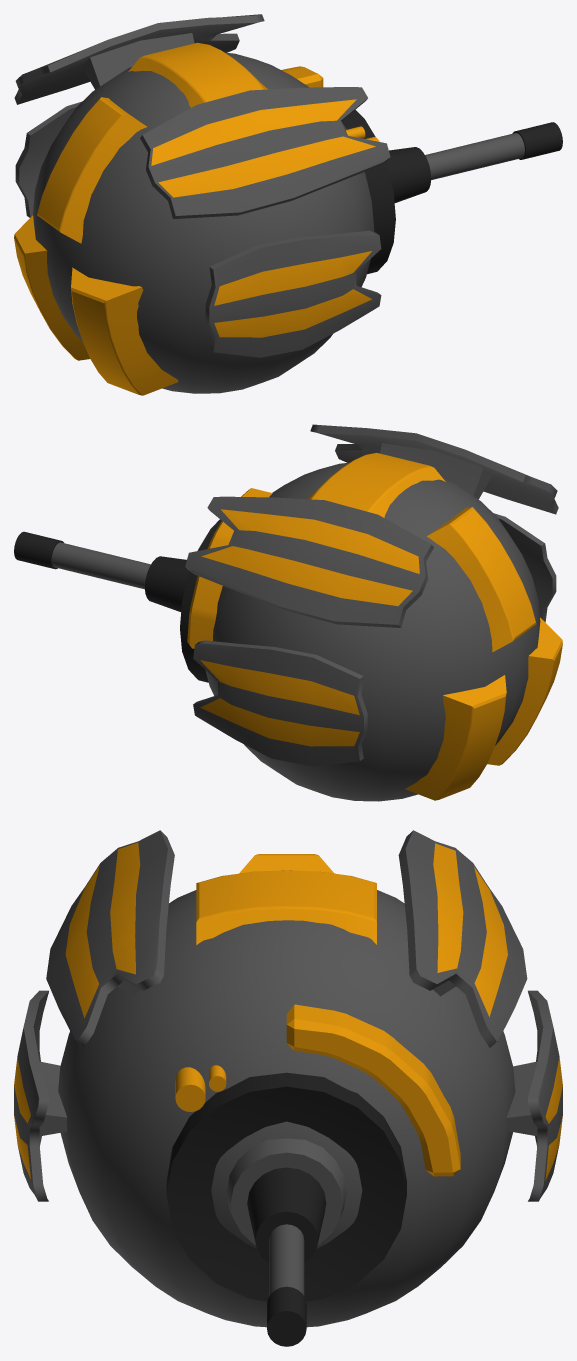
The model's file is drone02.fbx.
3 views of the same model, one above another, from view 1: azimuth 30°, elevation 25°; view 2: azimuth 150°, elevation 25°; view 3: azimuth 270°, elevation 25° (orthographic). The views are drawn at different scales.
Visible parts, largest first — view 1: pCube8, pSphere1, polySurface1, pCube5, pCylinder2, pCube4, polySurface2, pCylinder1, pPipe1; view 2: pCube8, pSphere1, pCube5, polySurface2, pCylinder2, pCube4, polySurface1, pPipe1, pCylinder1; view 3: pSphere1, pCube8, pCylinder1, pCylinder2, pPipe1, pCube4, pCube5, pCylinder3.
Part boxes in pixels (box(x1,y1,x2,y2)): pCube8: box(14, 14, 390, 357); pSphere1: box(33, 52, 374, 393); polySurface1: box(71, 267, 178, 395); pCube5: box(37, 97, 147, 243); pCylinder2: box(386, 122, 562, 202); pCube4: box(128, 42, 267, 107); polySurface2: box(14, 215, 89, 360); pCylinder1: box(341, 110, 395, 274); pPipe1: box(281, 66, 323, 87); pCube8: box(185, 424, 558, 766); pSphere1: box(205, 462, 540, 801); pCube5: box(426, 507, 536, 652); polySurface2: box(405, 675, 506, 800); pCylinder2: box(14, 531, 189, 611); pCube4: box(308, 453, 445, 517); polySurface1: box(487, 617, 562, 765); pPipe1: box(187, 488, 272, 648); pCylinder1: box(180, 519, 221, 682); pSphere1: box(58, 870, 515, 1327); pCube8: box(14, 830, 562, 1201); pCylinder1: box(166, 1072, 406, 1301); pCylinder2: box(227, 1138, 346, 1346); pPipe1: box(286, 1004, 460, 1176); pCube4: box(196, 870, 376, 944); pCube5: box(239, 854, 334, 873); pCylinder3: box(175, 1067, 205, 1111).
Size of the model in its own units: 6.55 by 3.94 by 4.57.
